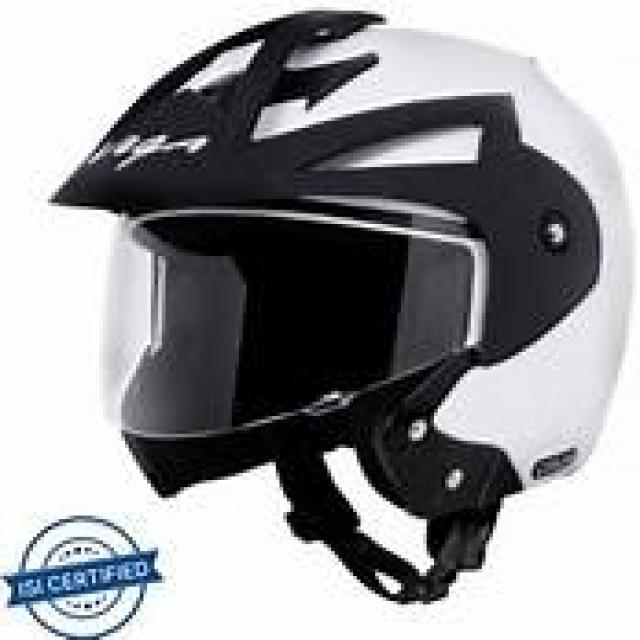helmet: (51, 11, 629, 583)
